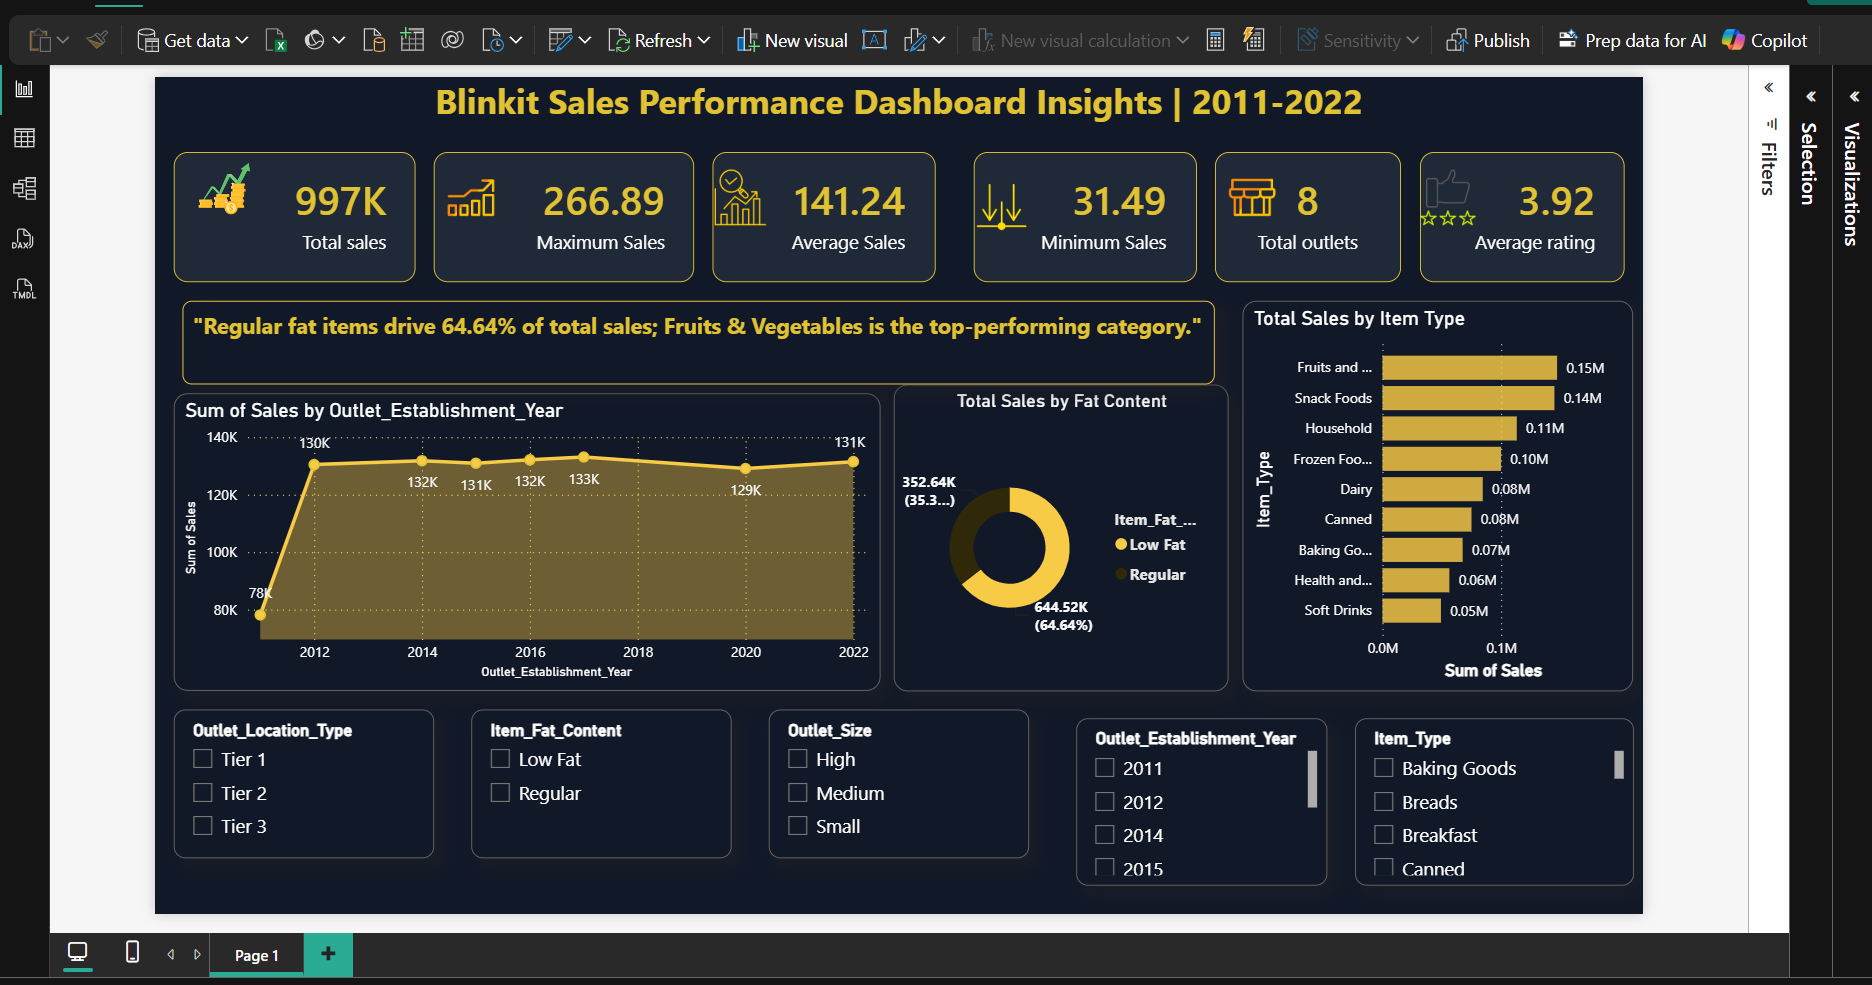

This screenshot's page, from the dashboard's own definition file:
{"tool":"powerbi","page":{"name":"Page 1","canvas":[1280,720],"ordinal":0},"visuals":[{"type":"cardVisual","fields":{"Data":["Sum(BlinkIT Grocery Data (2).Sales)"]},"box":[16,64,208,112],"z":0},{"type":"cardVisual","fields":{"Data":["BlinkIT Grocery Data (2).Average Sales"]},"box":[480,64,192,112],"z":1000},{"type":"cardVisual","fields":{"Data":["BlinkIT Grocery Data (2).Average rating"]},"box":[1088,64,176,112],"z":2000},{"type":"cardVisual","fields":{"Data":["BlinkIT Grocery Data (2).Minimum Sales"]},"box":[704,64,192,112],"z":3000},{"type":"cardVisual","fields":{"Data":["BlinkIT Grocery Data (2).Maximum Sales"]},"box":[240,64,224,112],"z":4000},{"type":"cardVisual","fields":{"Data":["BlinkIT Grocery Data (2).Total outlets"]},"box":[912,64,160,112],"z":5000},{"type":"lineChart","fields":{"Y":["Sum(BlinkIT Grocery Data (2).Sales)"],"Category":["BlinkIT Grocery Data (2).Outlet_Establishment_Year"]},"box":[16,272,608,256],"z":6000},{"type":"donutChart","title":"Total Sales by Fat Content","fields":{"Y":["Sum(BlinkIT Grocery Data (2).Sales)"],"Category":["BlinkIT Grocery Data (2).Item_Fat_Content"]},"box":[636,264,288,264],"z":7000},{"type":"barChart","title":"Total Sales by Item Type","fields":{"Category":["BlinkIT Grocery Data (2).Item_Type"],"Y":["Sum(BlinkIT Grocery Data (2).Sales)"]},"box":[936,192,336,336],"z":8000},{"type":"slicer","fields":{"Values":["BlinkIT Grocery Data (2).Outlet_Location_Type"]},"box":[16,544,224,128],"z":9000},{"type":"slicer","fields":{"Values":["BlinkIT Grocery Data (2).Outlet_Size"]},"box":[528,544,224,128],"z":10000},{"type":"slicer","fields":{"Values":["BlinkIT Grocery Data (2).Item_Type"]},"box":[1032,552,240,144],"z":11000},{"type":"slicer","fields":{"Values":["BlinkIT Grocery Data (2).Item_Fat_Content"]},"box":[272,544,224,128],"z":12000},{"type":"slicer","fields":{"Values":["BlinkIT Grocery Data (2).Outlet_Establishment_Year"]},"box":[792,552,216,144],"z":13000},{"type":"shape","title":" Blinkit Sales Performance Dashboard              Insights | 2011-2022","box":[0,0,1280,48],"z":14000},{"type":"textbox","box":[24,192,888,72],"z":15000},{"type":"image","box":[240,80,64,48],"z":17000},{"type":"image","box":[912,80,64,48],"z":18000},{"type":"image","box":[1088,80,48,48],"z":19000},{"type":"image","box":[704,80,48,64],"z":20000},{"type":"image","box":[480,80,48,48],"z":21000},{"type":"image","box":[24,72,72,48],"z":22000}]}

Visuals, with their boxes on the page's 1280x720 design canvas (x1, y1, x2, y2). These are canvas units, not pixel positions in the 1872x985 screenshot, which may show the page scaled, cropped or inside an application window:
cardVisual - Sum(BlinkIT Grocery Data (2).Sales): [16,64,224,176]
cardVisual - BlinkIT Grocery Data (2).Average Sales: [480,64,672,176]
cardVisual - BlinkIT Grocery Data (2).Average rating: [1088,64,1264,176]
cardVisual - BlinkIT Grocery Data (2).Minimum Sales: [704,64,896,176]
cardVisual - BlinkIT Grocery Data (2).Maximum Sales: [240,64,464,176]
cardVisual - BlinkIT Grocery Data (2).Total outlets: [912,64,1072,176]
lineChart - Sum(BlinkIT Grocery Data (2).Sales) x BlinkIT Grocery Data (2).Outlet_Establishment_Year: [16,272,624,528]
"Total Sales by Fat Content" donutChart: [636,264,924,528]
"Total Sales by Item Type" barChart: [936,192,1272,528]
slicer - BlinkIT Grocery Data (2).Outlet_Location_Type: [16,544,240,672]
slicer - BlinkIT Grocery Data (2).Outlet_Size: [528,544,752,672]
slicer - BlinkIT Grocery Data (2).Item_Type: [1032,552,1272,696]
slicer - BlinkIT Grocery Data (2).Item_Fat_Content: [272,544,496,672]
slicer - BlinkIT Grocery Data (2).Outlet_Establishment_Year: [792,552,1008,696]
" Blinkit Sales Performance Dashboard              Insights | 2011-2022" shape: [0,0,1280,48]
textbox: [24,192,912,264]
image: [240,80,304,128]
image: [912,80,976,128]
image: [1088,80,1136,128]
image: [704,80,752,144]
image: [480,80,528,128]
image: [24,72,96,120]
